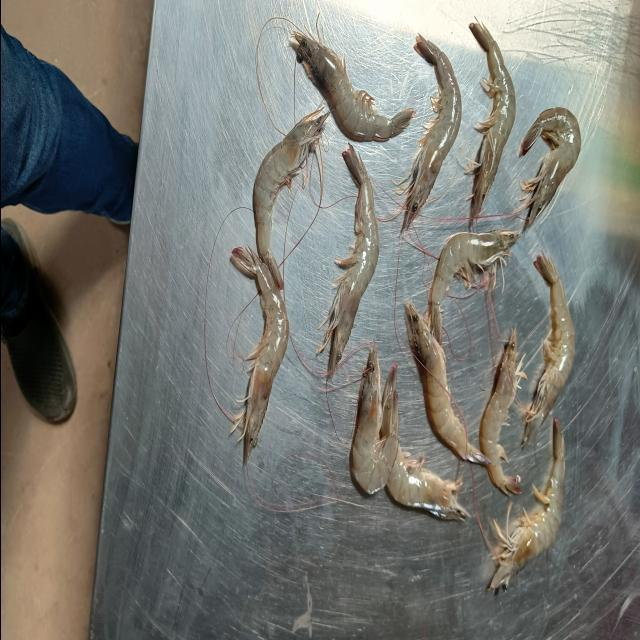shrimp: (379, 363, 468, 520), (404, 301, 489, 465), (289, 31, 414, 142), (252, 108, 328, 290), (322, 144, 379, 376), (488, 418, 564, 589), (396, 35, 460, 230), (230, 248, 288, 463), (428, 230, 519, 343), (521, 255, 574, 445), (466, 22, 515, 217), (510, 106, 580, 230), (479, 330, 525, 496), (349, 345, 398, 494)
